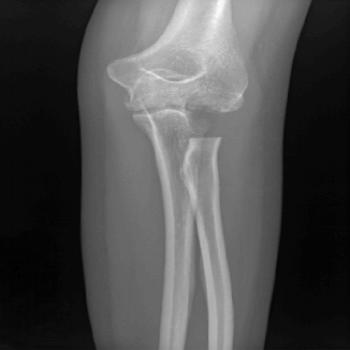Fracture: (171, 99, 255, 159)
